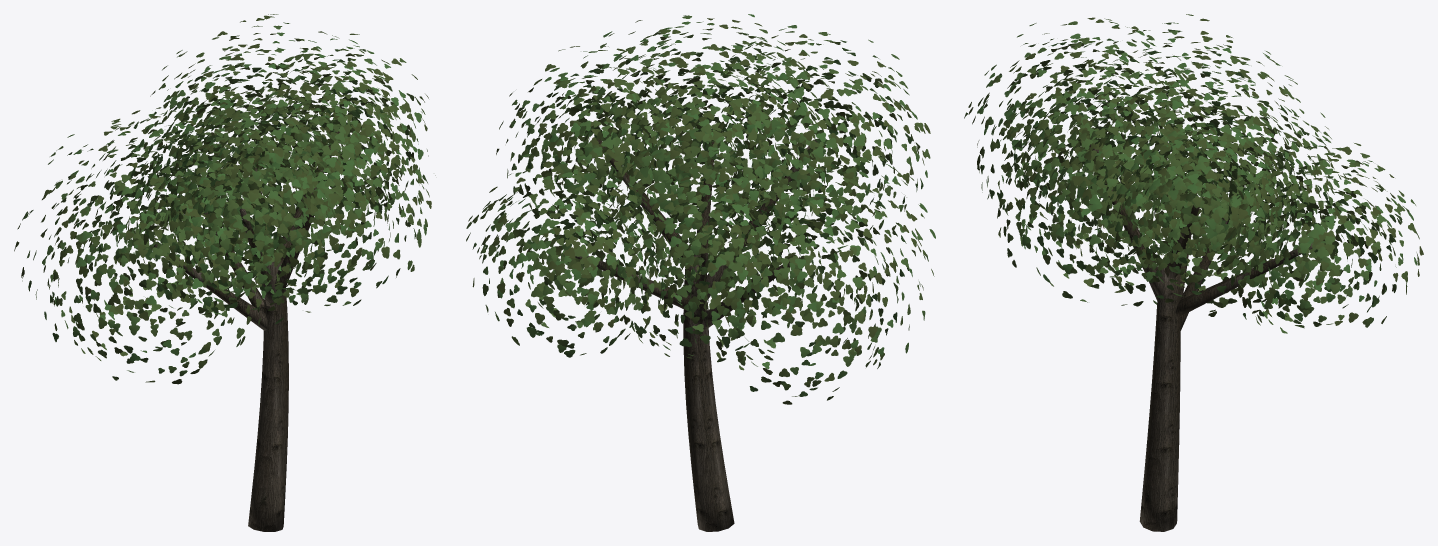
The model's file is ER_Arbre_Feuillu_10m.gltf.
3 renders of one model, left to right at view 1: azimuth 30°, elevation 25°; view 2: azimuth 150°, elevation 25°; view 3: azimuth 270°, elevation 25°, orthographic. The views are drawn at different scales.
Visible parts, largest first — view 1: ER_Arbre_Feuillu_10m_FEU3.001, ER_Arbre_Feuillu_10m_ECO.001; view 2: ER_Arbre_Feuillu_10m_FEU3.001, ER_Arbre_Feuillu_10m_ECO.001; view 3: ER_Arbre_Feuillu_10m_FEU3.001, ER_Arbre_Feuillu_10m_ECO.001.
Boxes of the visible parts, x1,y1,x2,y2 form: ER_Arbre_Feuillu_10m_FEU3.001: (14,14,435,384); ER_Arbre_Feuillu_10m_ECO.001: (153,131,339,531); ER_Arbre_Feuillu_10m_FEU3.001: (466,14,935,404); ER_Arbre_Feuillu_10m_ECO.001: (575,139,817,531); ER_Arbre_Feuillu_10m_FEU3.001: (964,14,1423,333); ER_Arbre_Feuillu_10m_ECO.001: (1089,144,1312,531).
Bounding box in the file's own units: 7.72 × 9.49 × 7.87.
2 materials, 1 textured.
